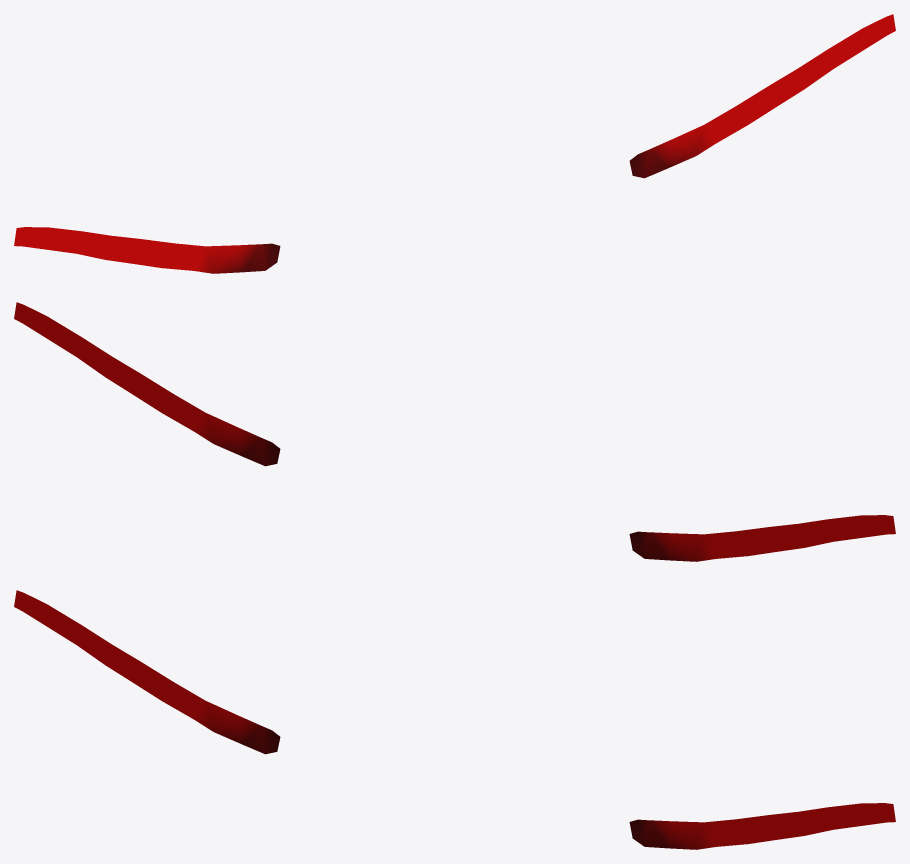
Rendered from frame184.fbx.
3 views of the same model, one above another, from view 1: azimuth 30°, elevation 25°; view 2: azimuth 150°, elevation 25°; view 3: azimuth 330°, elevation 25° (orthographic).
Parts seen in each view (by area): view 1: MaterialLayer; view 2: MaterialLayer; view 3: MaterialLayer.
Part boxes in pixels (x1=…): MaterialLayer: x1=14, y1=14, x2=895, y2=273; MaterialLayer: x1=14, y1=302, x2=895, y2=561; MaterialLayer: x1=14, y1=590, x2=895, y2=849.
Bounding box in the file's own units: 1546 × 173 × 0.
